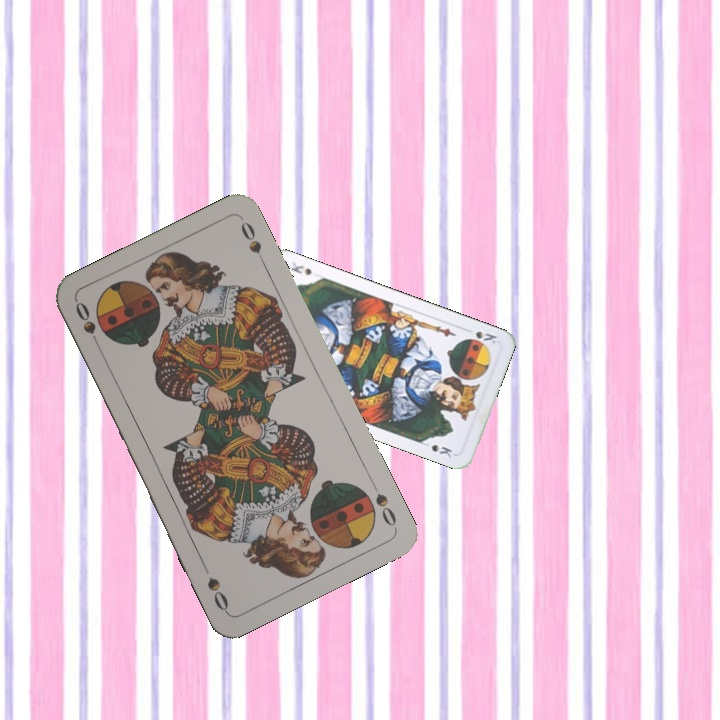SK: (461, 324, 499, 346)
SO: (71, 297, 104, 352), (366, 476, 399, 530)
